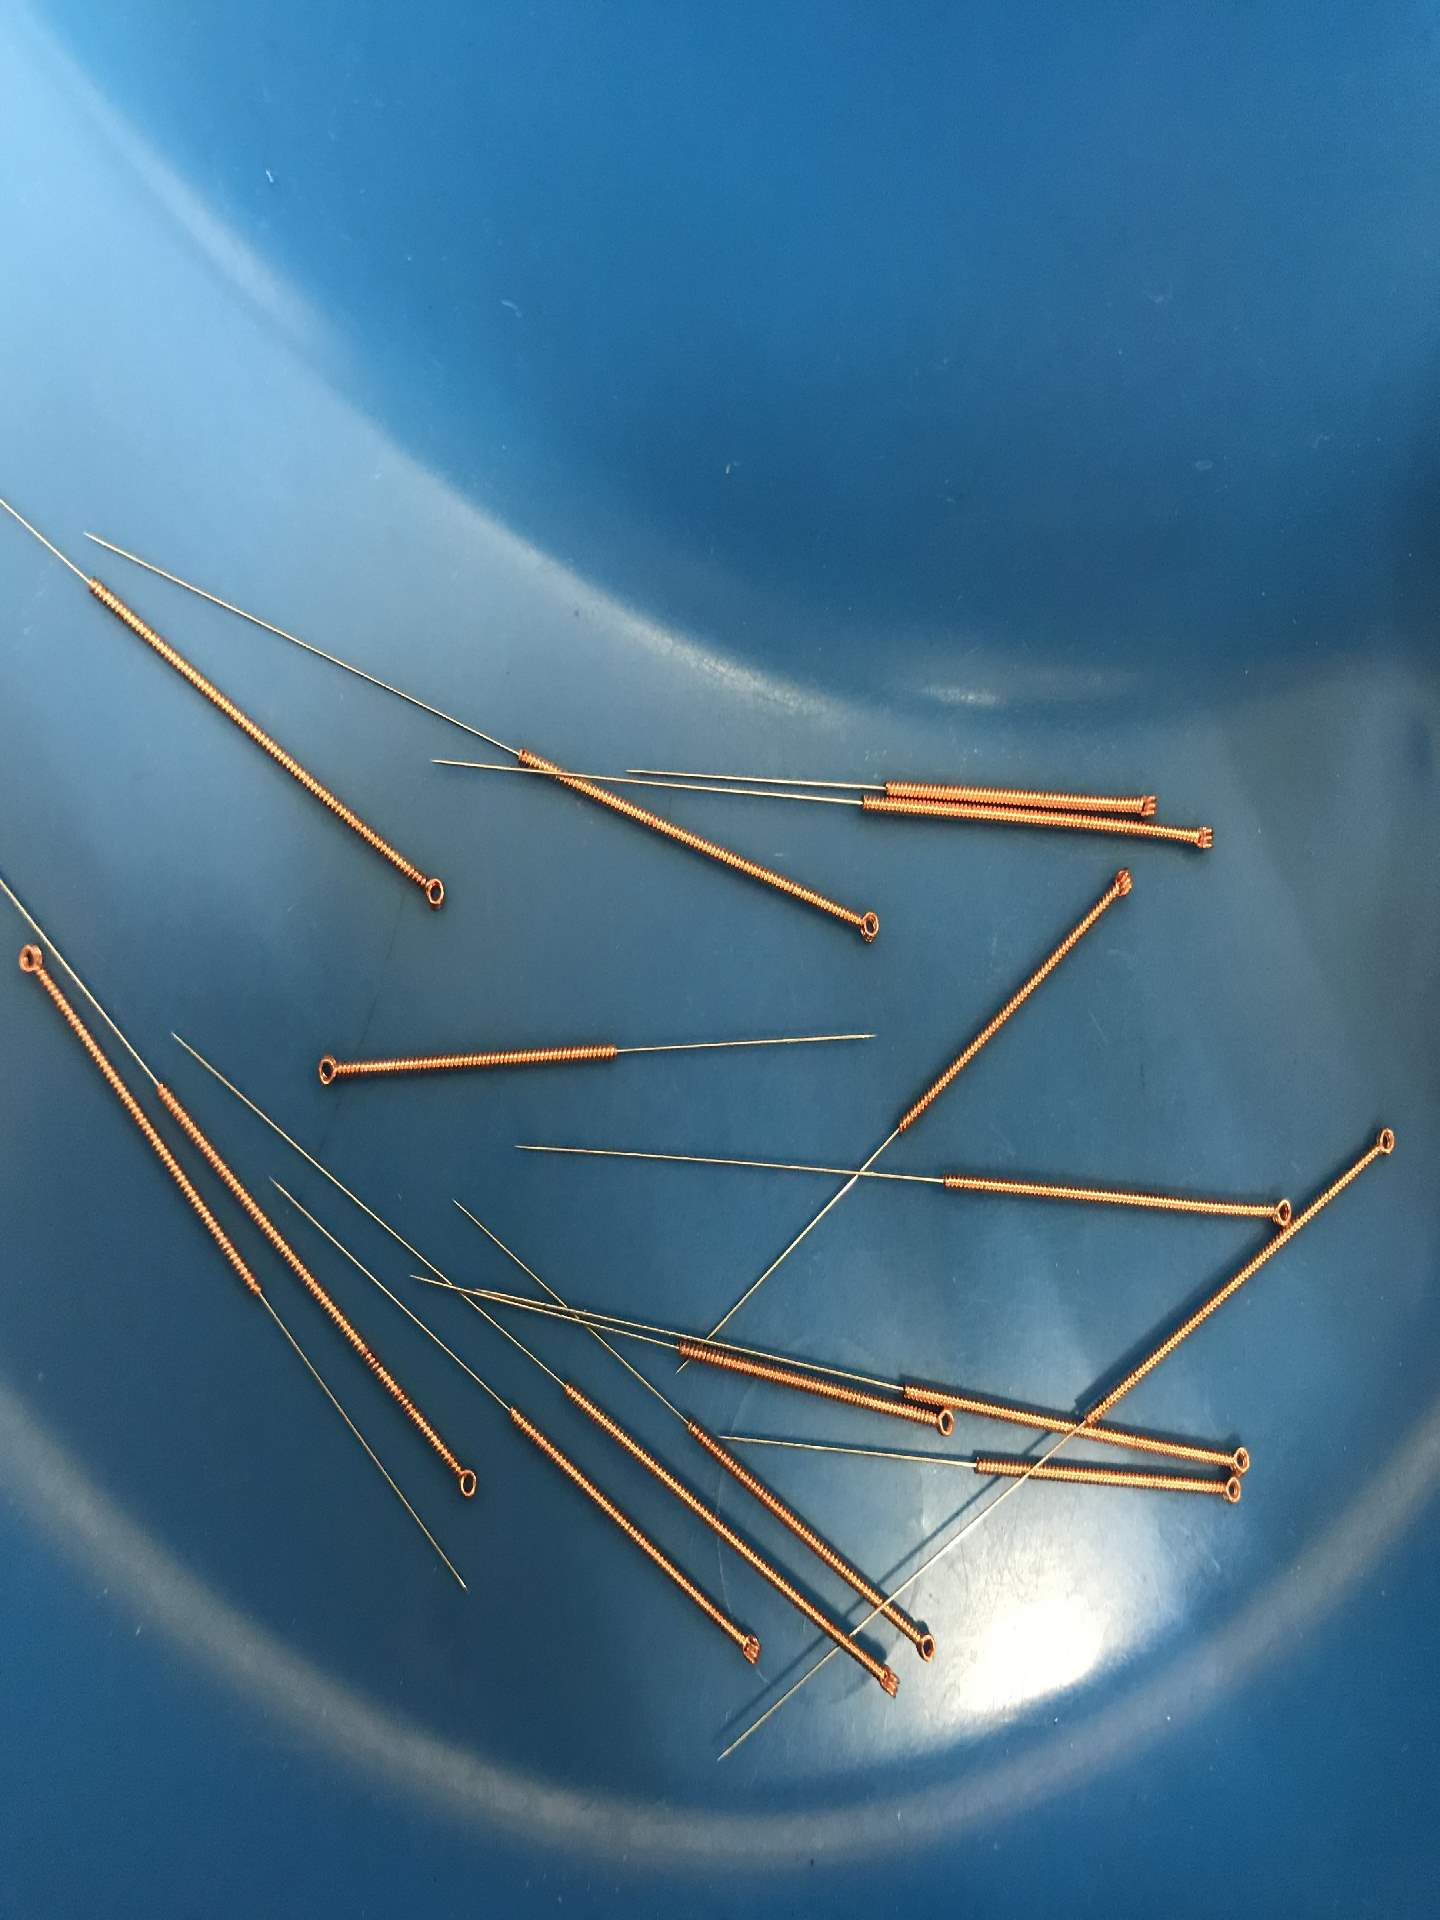needle: (8, 927, 54, 993), (440, 1453, 492, 1512), (722, 1618, 773, 1677), (407, 862, 452, 919), (843, 898, 889, 952), (303, 1046, 349, 1099), (1175, 812, 1224, 862), (1203, 1466, 1254, 1513), (903, 1618, 945, 1674), (1358, 1116, 1407, 1164), (864, 1654, 909, 1705), (1097, 856, 1141, 909), (1122, 780, 1166, 828), (1249, 1190, 1296, 1234), (917, 1398, 964, 1442), (1218, 1435, 1260, 1482)
